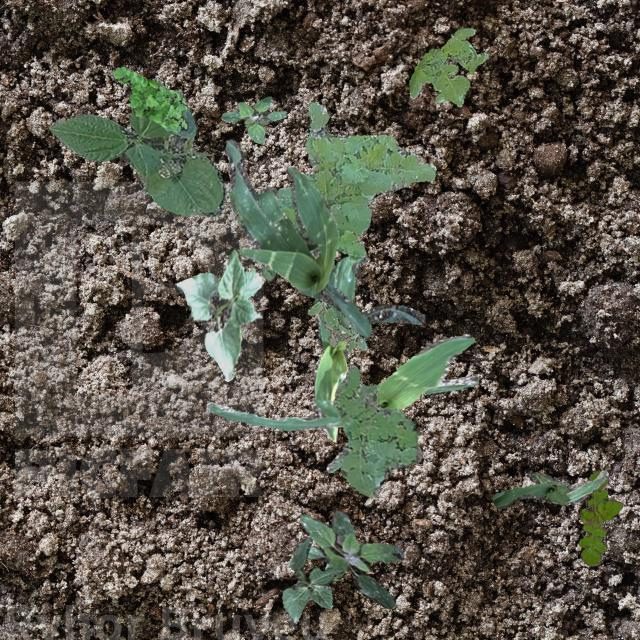crop: (205, 332, 478, 472), (224, 138, 370, 338), (48, 78, 224, 216), (312, 254, 424, 440), (176, 248, 260, 380), (280, 536, 342, 622), (492, 468, 608, 508)
weed: (260, 102, 434, 280), (332, 364, 422, 496), (298, 510, 402, 608), (408, 26, 487, 106), (110, 66, 188, 130), (578, 470, 622, 564), (306, 298, 366, 352), (220, 96, 286, 142)
